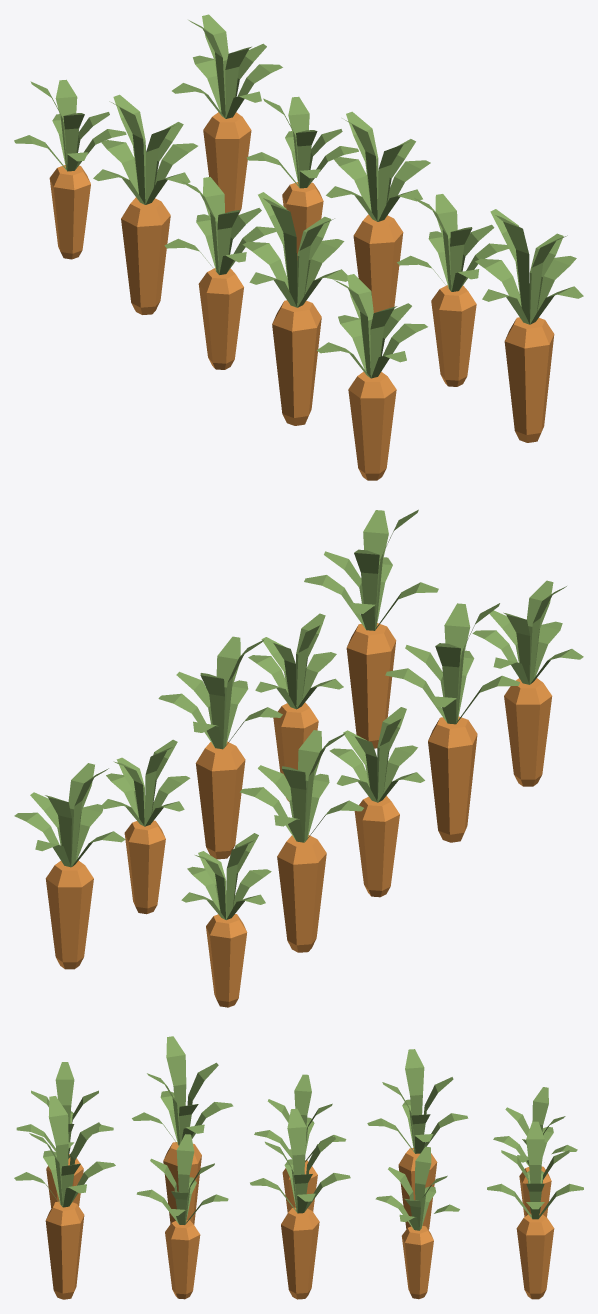
Rendered from veg_farm_carrot.glb.
The picture shows the model from 3 angles, top to bottom: view 1: azimuth 30°, elevation 25°; view 2: azimuth 150°, elevation 25°; view 3: azimuth 270°, elevation 25°; orthographic projection. The views are drawn at different scales.
Visible parts, largest first — view 1: crop_carrot_9, crop_carrot_3, crop_carrot_1, crop_carrot_7, crop_carrot_4, crop_carrot_5, crop_carrot_8, crop_carrot_2, crop_carrot_0, crop_carrot_6; view 2: crop_carrot_3, crop_carrot_9, crop_carrot_7, crop_carrot_1, crop_carrot_5, crop_carrot_4, crop_carrot_2, crop_carrot_0, crop_carrot_6, crop_carrot_8; view 3: crop_carrot_9, crop_carrot_7, crop_carrot_5, crop_carrot_3, crop_carrot_8, crop_carrot_6, crop_carrot_1, crop_carrot_0, crop_carrot_4, crop_carrot_2.
Boxes of the visible parts, x1=… form: crop_carrot_9: x1=475, y1=209, x2=583, y2=442; crop_carrot_3: x1=242, y1=192, x2=347, y2=425; crop_carrot_1: x1=93, y1=94, x2=197, y2=314; crop_carrot_7: x1=326, y1=111, x2=430, y2=312; crop_carrot_4: x1=317, y1=274, x2=427, y2=480; crop_carrot_5: x1=172, y1=14, x2=282, y2=214; crop_carrot_8: x1=397, y1=194, x2=508, y2=386; crop_carrot_2: x1=164, y1=177, x2=276, y2=369; crop_carrot_0: x1=14, y1=79, x2=126, y2=259; crop_carrot_6: x1=246, y1=96, x2=358, y2=260; crop_carrot_3: x1=385, y1=603, x2=519, y2=842; crop_carrot_9: x1=304, y1=509, x2=438, y2=748; crop_carrot_7: x1=158, y1=636, x2=282, y2=859; crop_carrot_1: x1=240, y1=730, x2=363, y2=952; crop_carrot_5: x1=14, y1=763, x2=125, y2=969; crop_carrot_4: x1=472, y1=580, x2=583, y2=786; crop_carrot_2: x1=329, y1=707, x2=424, y2=897; crop_carrot_0: x1=181, y1=833, x2=271, y2=1007; crop_carrot_6: x1=102, y1=739, x2=190, y2=914; crop_carrot_8: x1=248, y1=613, x2=343, y2=801; crop_carrot_9: x1=14, y1=1096, x2=115, y2=1299; crop_carrot_7: x1=250, y1=1108, x2=350, y2=1299; crop_carrot_5: x1=487, y1=1121, x2=583, y2=1299; crop_carrot_3: x1=132, y1=1036, x2=233, y2=1224; crop_carrot_8: x1=136, y1=1134, x2=228, y2=1299; crop_carrot_6: x1=375, y1=1146, x2=459, y2=1299; crop_carrot_1: x1=367, y1=1049, x2=468, y2=1229; crop_carrot_0: x1=493, y1=1087, x2=577, y2=1217; crop_carrot_4: x1=16, y1=1062, x2=113, y2=1208; crop_carrot_2: x1=254, y1=1074, x2=346, y2=1212.
Bounding box in the file's own units: 0.7237 × 0.6084 × 1.7.
